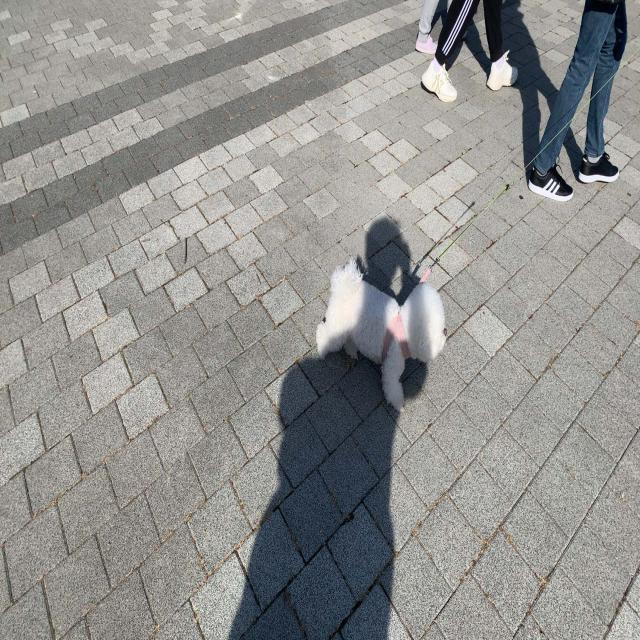Dog: (314, 255, 449, 416)
